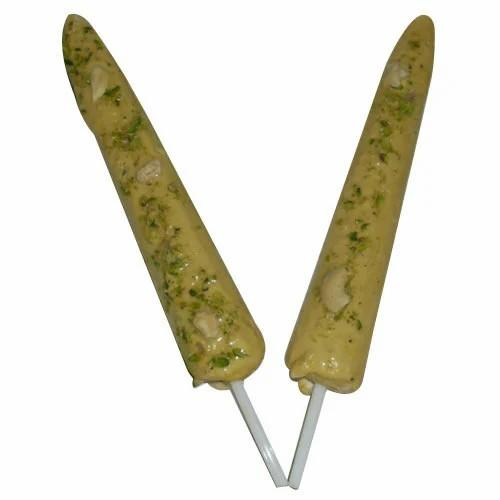Kulfi: (62, 16, 267, 390), (284, 14, 436, 394)
